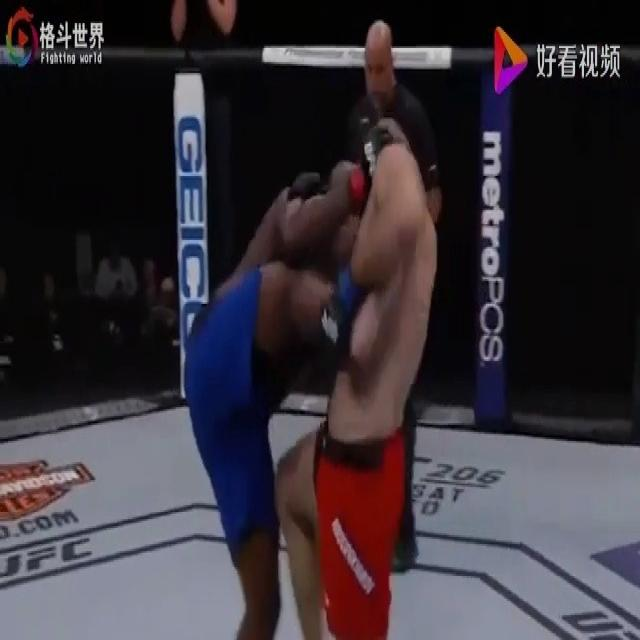fight: (171, 73, 443, 638)
non-fight: (166, 0, 241, 52)
